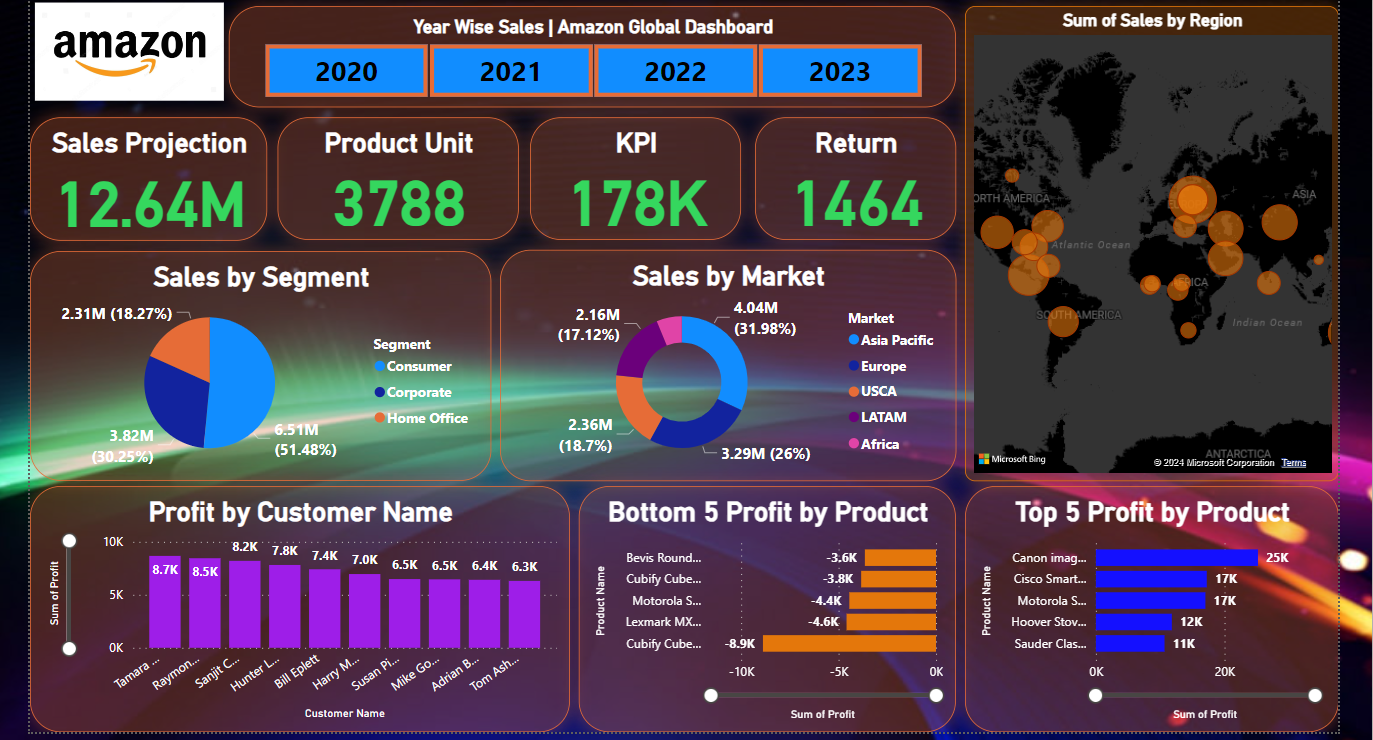

What the dashboard file says about the page in this screenshot:
{"tool":"powerbi","page":{"name":"Page 1","canvas":[1280,720],"ordinal":0},"visuals":[{"type":"slicer","title":"Year Wise Sales | Amazon Global Dashboard","fields":{"Values":["Orders.year"]},"box":[194.4,9.8,711.4,99],"z":0},{"type":"card","title":"Sales Projection","fields":{"Values":["Orders.Sales"]},"box":[0,118.6,232.3,121],"z":1},{"type":"image","box":[0,0,194.4,108.8],"z":2},{"type":"card","title":"Product Unit","fields":{"Values":["Orders.Product Name"]},"box":[242,118.6,235.9,119.8],"z":3},{"type":"card","title":"KPI","fields":{"Values":["Orders.Quantity"]},"box":[489,118.6,206.6,119.8],"z":4},{"type":"card","title":"Return","fields":{"Values":["Orders.Ship Date"]},"box":[709,118.6,196.8,119.8],"z":5},{"type":"pieChart","title":"Sales by Segment","fields":{"Category":["Orders.Segment"],"Y":["Orders.Sales"]},"box":[0,249.4,451.1,224.9],"z":7},{"type":"donutChart","title":"Sales by Market","fields":{"Y":["Orders.Sales"],"Category":["Orders.Market"]},"box":[459.6,248.1,446.2,226.1],"z":8},{"type":"columnChart","title":"Profit by Customer Name","fields":{"Category":["Orders.Customer Name"],"Y":["Orders.Profit"]},"box":[0,479.2,528.1,240.8],"z":10},{"type":"clusteredBarChart","title":"Bottom 5 Profit by Product","fields":{"Y":["Orders.Profit"],"Category":["Orders.Product Name"]},"box":[536.6,479.2,369.2,240.8],"z":11},{"type":"clusteredBarChart","title":"Top 5 Profit by Product","fields":{"Y":["Orders.Profit"],"Category":["Orders.Product Name"]},"box":[914.4,479.2,365.5,240.8],"z":12},{"type":"map","fields":{"Category":["Orders.Region"],"Size":["Orders.Sales"]},"box":[914.4,9.8,365.5,464.5],"z":13}]}

Visuals, with their boxes on the page's 1280x720 design canvas (x1, y1, x2, y2). These are canvas units, not pixel positions in the 1373x740 screenshot, which may show the page scaled, cropped or inside an application window:
"Year Wise Sales | Amazon Global Dashboard" slicer: {"left": 194, "top": 10, "right": 906, "bottom": 109}
"Sales Projection" card: {"left": 0, "top": 119, "right": 232, "bottom": 240}
image: {"left": 0, "top": 0, "right": 194, "bottom": 109}
"Product Unit" card: {"left": 242, "top": 119, "right": 478, "bottom": 238}
"KPI" card: {"left": 489, "top": 119, "right": 696, "bottom": 238}
"Return" card: {"left": 709, "top": 119, "right": 906, "bottom": 238}
"Sales by Segment" pieChart: {"left": 0, "top": 249, "right": 451, "bottom": 474}
"Sales by Market" donutChart: {"left": 460, "top": 248, "right": 906, "bottom": 474}
"Profit by Customer Name" columnChart: {"left": 0, "top": 479, "right": 528, "bottom": 720}
"Bottom 5 Profit by Product" clusteredBarChart: {"left": 537, "top": 479, "right": 906, "bottom": 720}
"Top 5 Profit by Product" clusteredBarChart: {"left": 914, "top": 479, "right": 1280, "bottom": 720}
map - Orders.Region x Orders.Sales: {"left": 914, "top": 10, "right": 1280, "bottom": 474}
